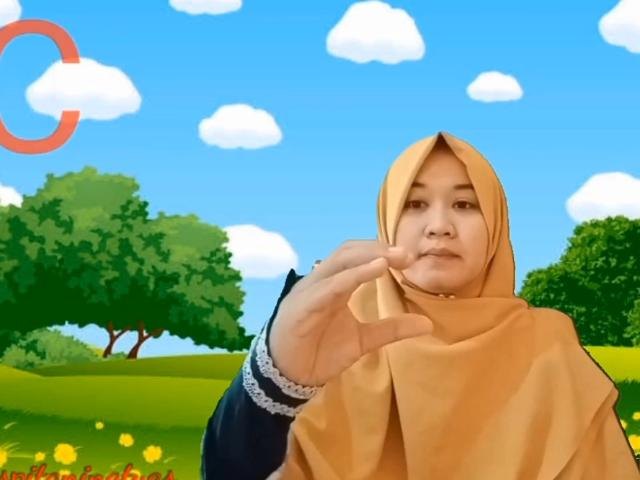C: (260, 236, 436, 392)
